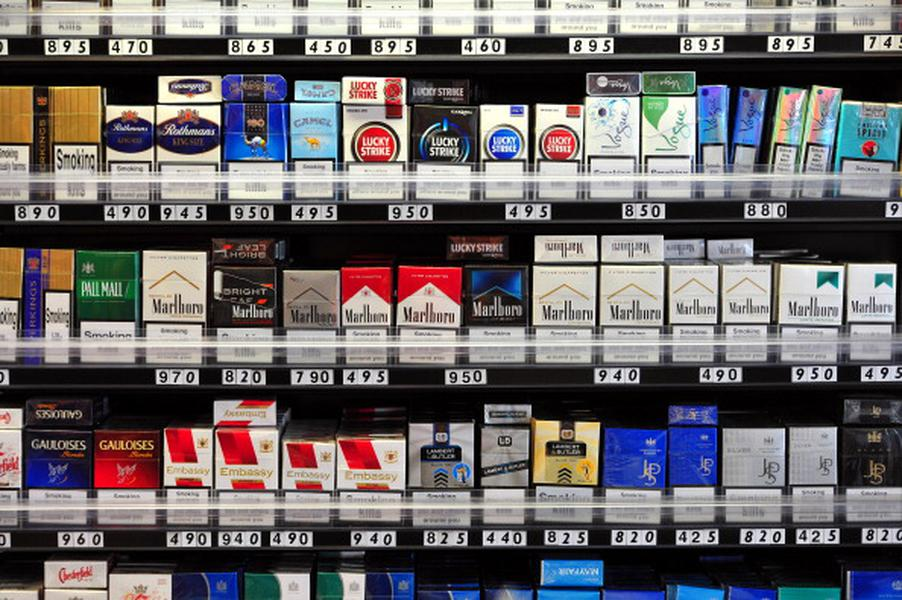chesterfield_red: (1, 431, 22, 529), (110, 576, 171, 600)
lucky_strike_blue: (482, 106, 528, 199)
lucky_strike_red: (343, 107, 407, 201), (537, 106, 582, 202)
marlboro_gold: (143, 252, 205, 367), (533, 267, 597, 364), (602, 267, 663, 362), (668, 267, 717, 362), (723, 267, 770, 364)
marlboro_red: (398, 269, 458, 362), (342, 269, 390, 364)
